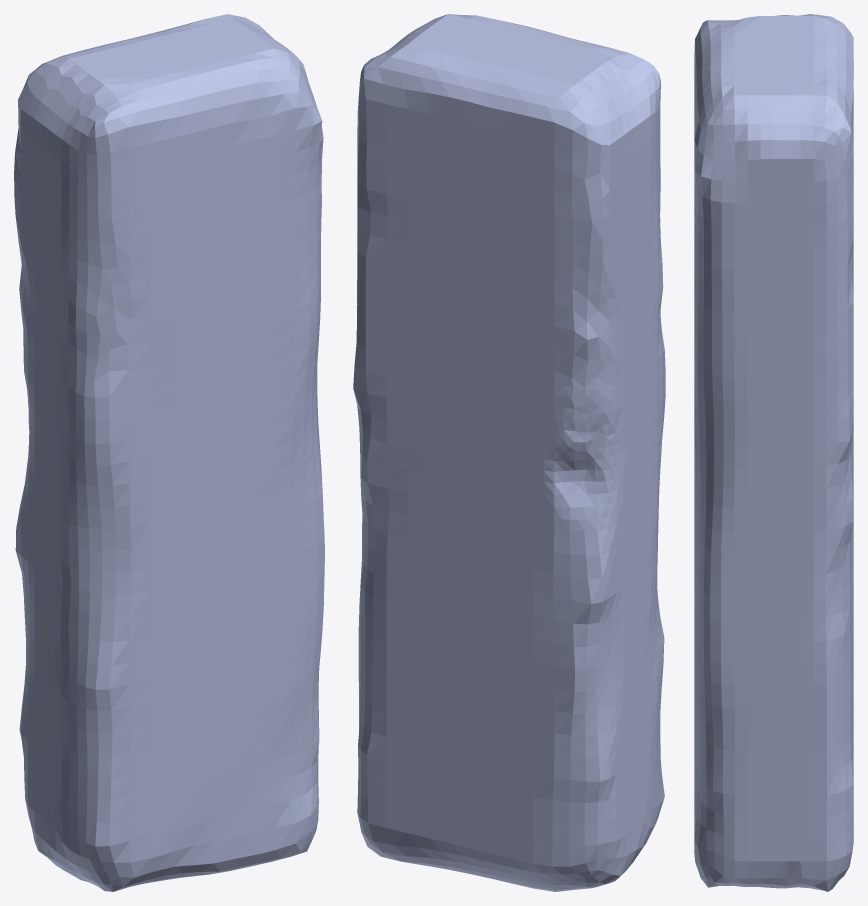
The model's file is path_stone.fbx.
3 renders of one model, left to right at view 1: azimuth 30°, elevation 25°; view 2: azimuth 150°, elevation 25°; view 3: azimuth 270°, elevation 25°, orthographic. The views are drawn at different scales.
Parts seen in each view (by area): view 1: before Deci; view 2: before Deci; view 3: before Deci.
Boxes of the visible parts, x1=… form: before Deci: x1=14, y1=14, x2=324, y2=891; before Deci: x1=353, y1=14, x2=665, y2=891; before Deci: x1=694, y1=14, x2=853, y2=891.
Size of the model in its own units: 200 by 619 by 113.
